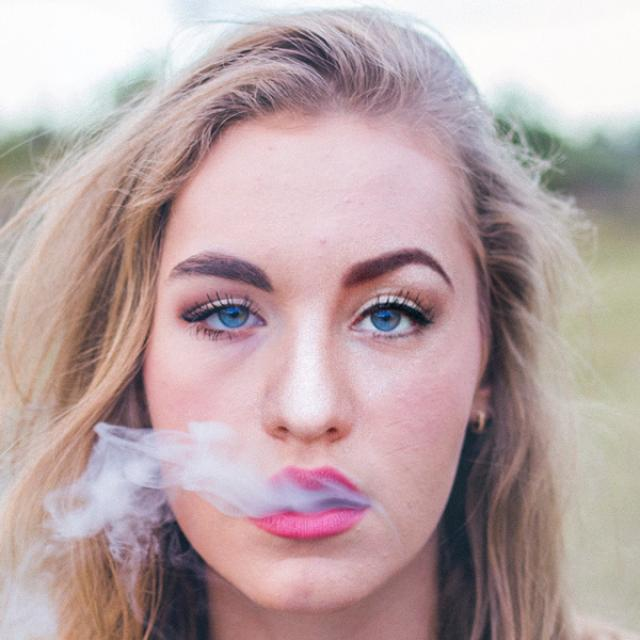face: (116, 4, 510, 613)
